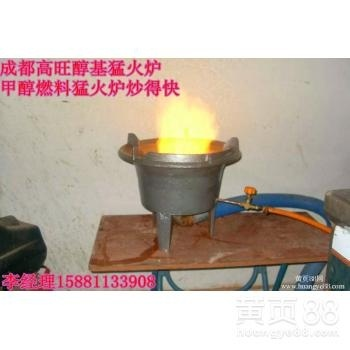fire: (155, 93, 219, 153)
